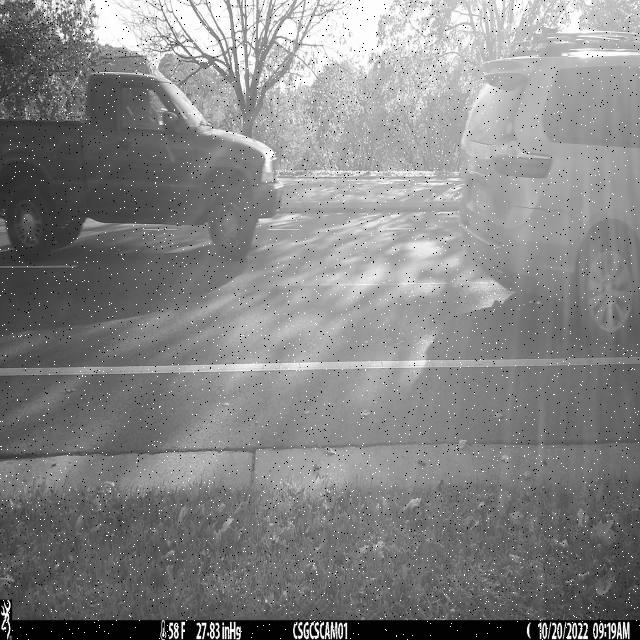Pickup: (0, 71, 284, 262)
